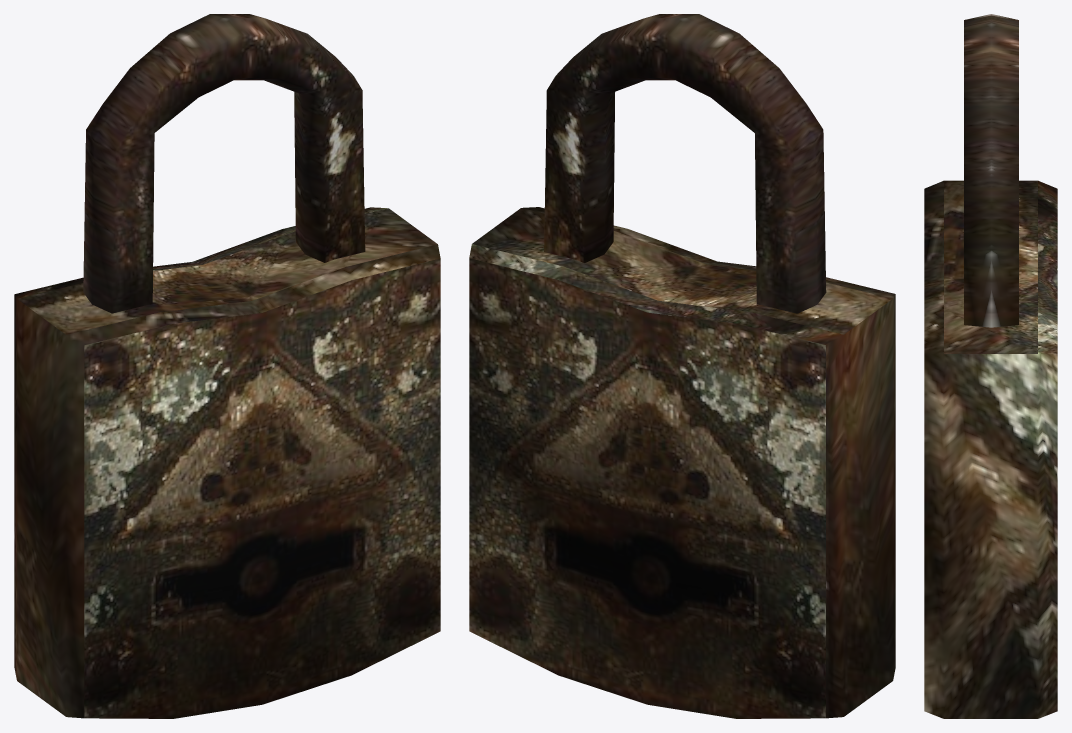
The model's file is padlock.fbx.
3 views of the same model, side by side, from view 1: azimuth 30°, elevation 25°; view 2: azimuth 150°, elevation 25°; view 3: azimuth 270°, elevation 25° (orthographic). The views are drawn at different scales.
Visible parts, largest first — view 1: Cube.002; view 2: Cube.002; view 3: Cube.002.
Boxes of the visible parts, x1,y1,x2,y2 form: Cube.002: (14,14,440,718); Cube.002: (469,14,895,718); Cube.002: (924,14,1057,718).
Bounding box in the file's own units: 27.77 × 47.55 × 9.03.
